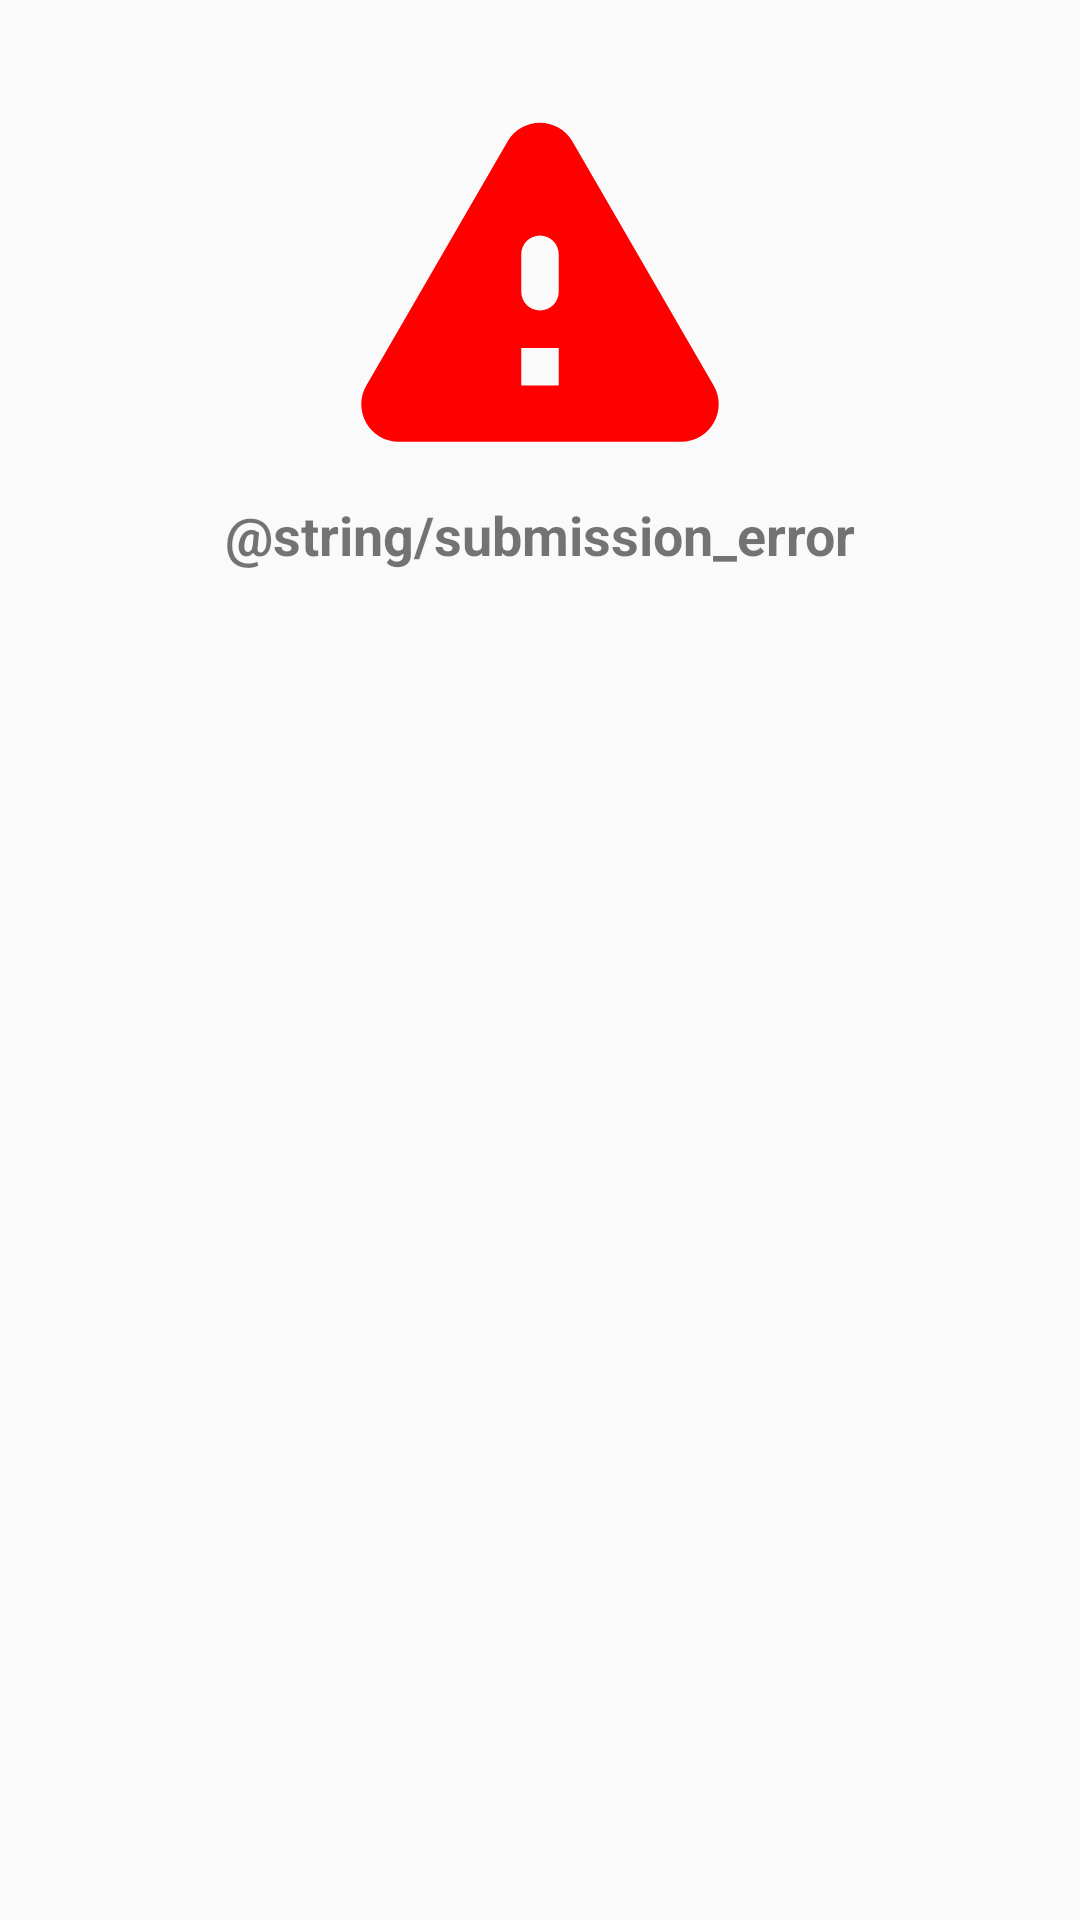

Icons on this 1080x1920 Android screen, each with its box as bbox=(x1, y1, x2, y2):
warning: bbox=(361, 122, 719, 442)
